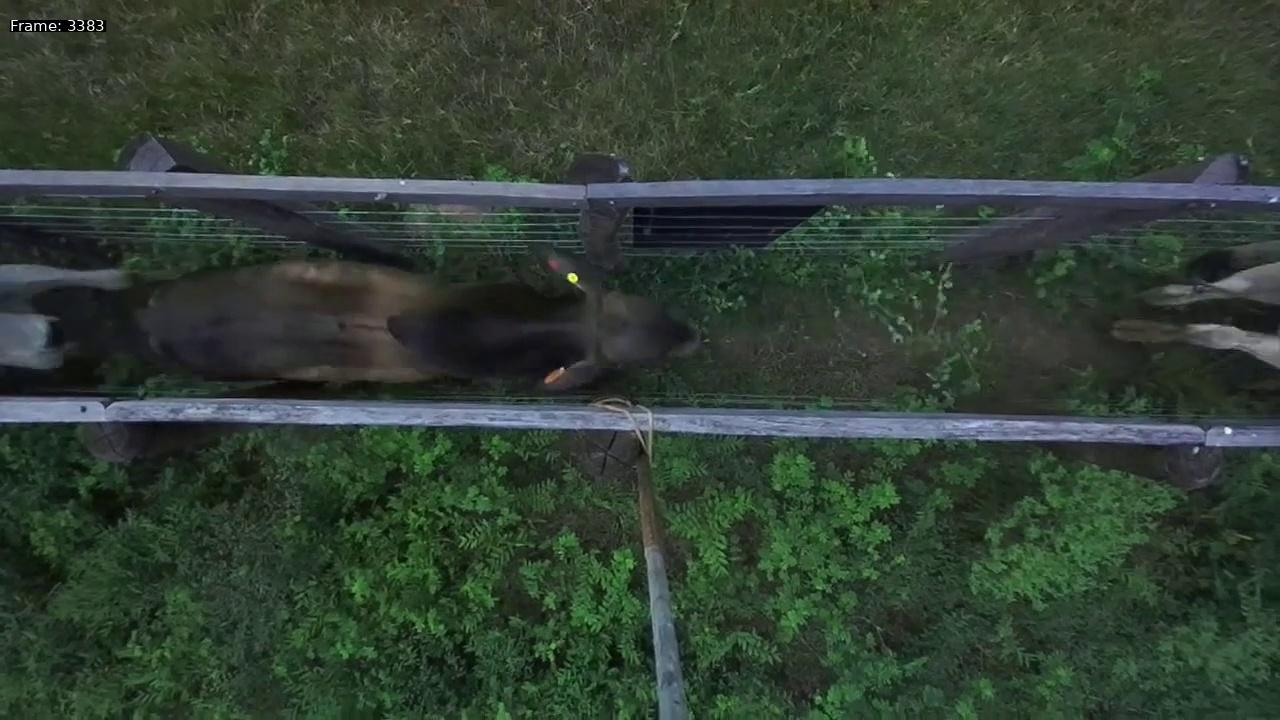cattle: (137, 220, 714, 405)
